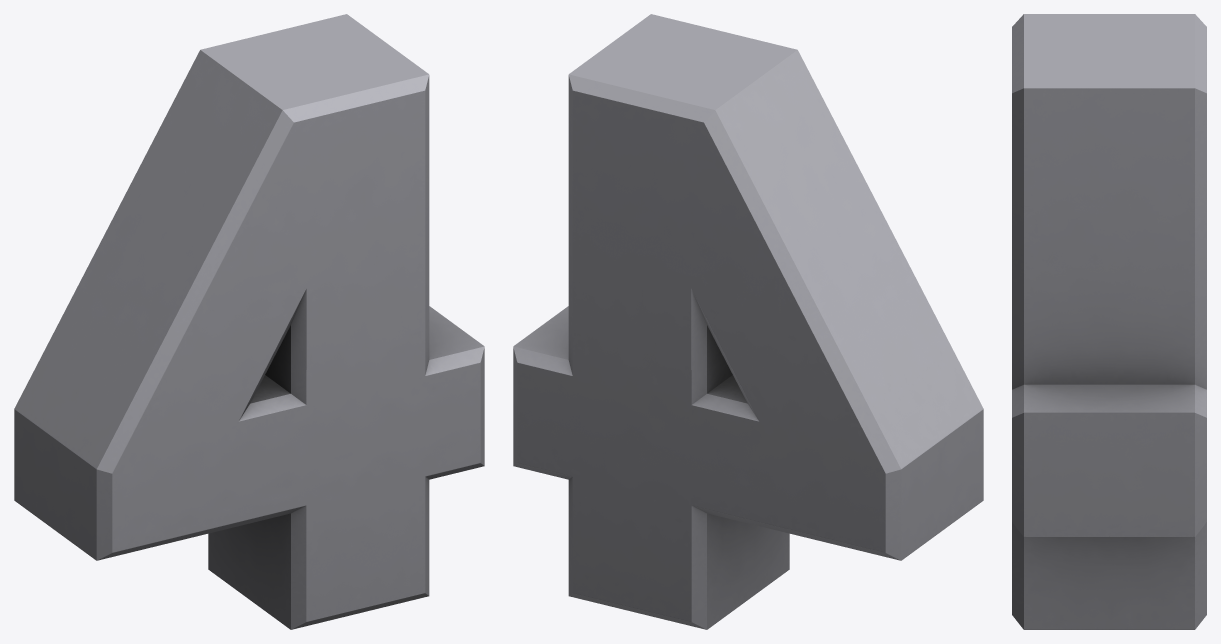
The model's file is 4_static.fbx.
3 renders of one model, left to right at view 1: azimuth 30°, elevation 25°; view 2: azimuth 150°, elevation 25°; view 3: azimuth 270°, elevation 25°, orthographic. The views are drawn at different scales.
Parts seen in each view (by area): view 1: 4_static; view 2: 4_static; view 3: 4_static.
Part boxes in pixels (bbox=[...]): 4_static: bbox=[14, 14, 484, 629]; 4_static: bbox=[513, 14, 983, 629]; 4_static: bbox=[1012, 14, 1206, 629].
Size of the model in its own units: 78.79 by 101 by 33.
